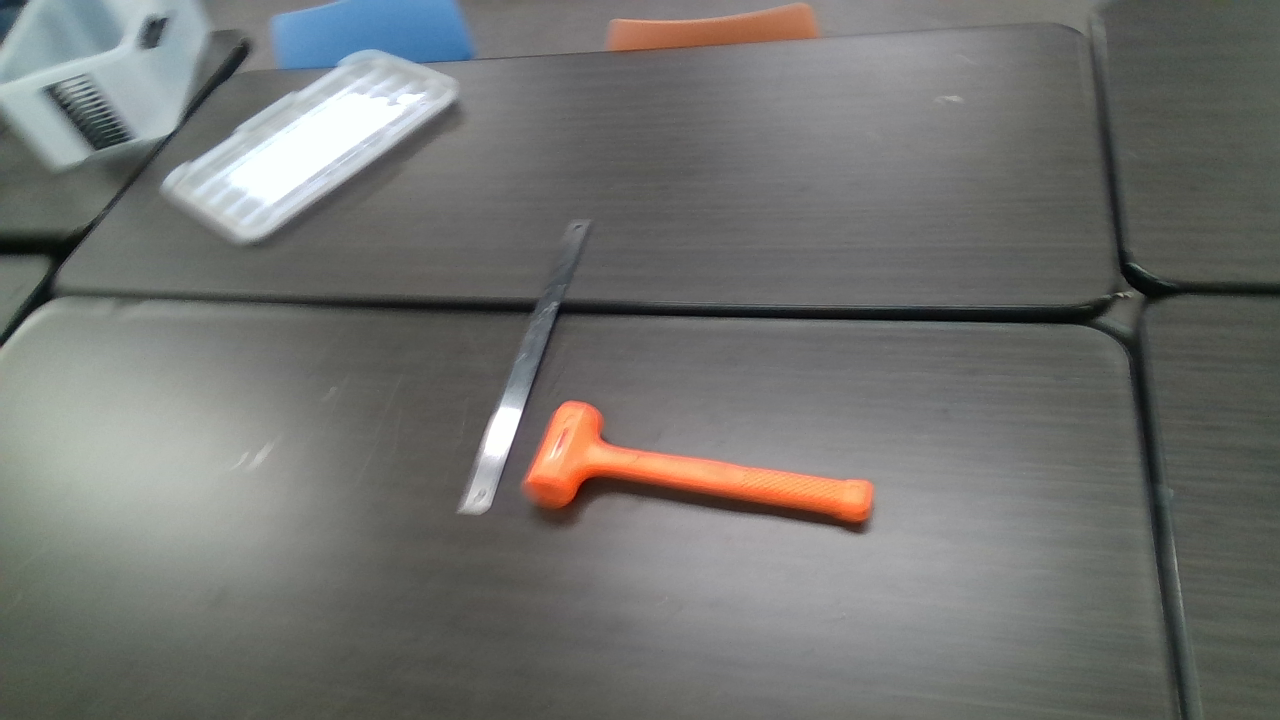Orange Hammer: (526, 401, 871, 525)
